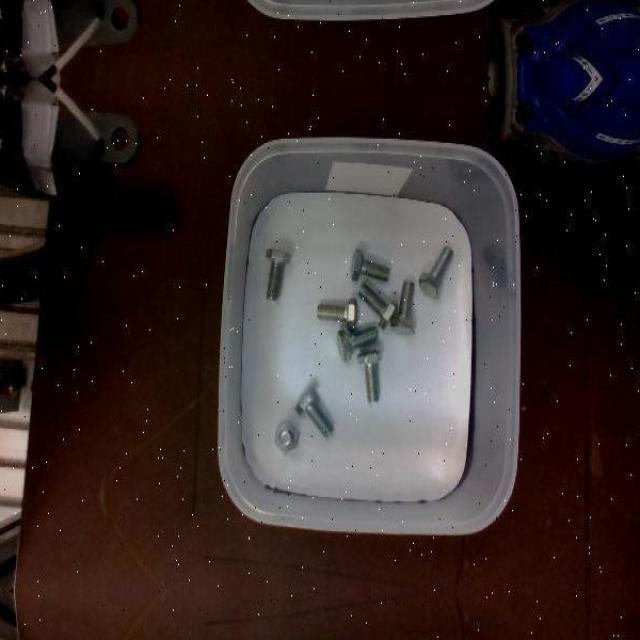screw: (295, 384, 334, 437), (418, 244, 455, 297), (356, 282, 397, 328), (337, 325, 379, 361), (389, 279, 415, 335), (317, 295, 357, 328), (265, 248, 290, 300), (350, 247, 388, 280), (357, 351, 381, 402), (275, 419, 300, 452)
